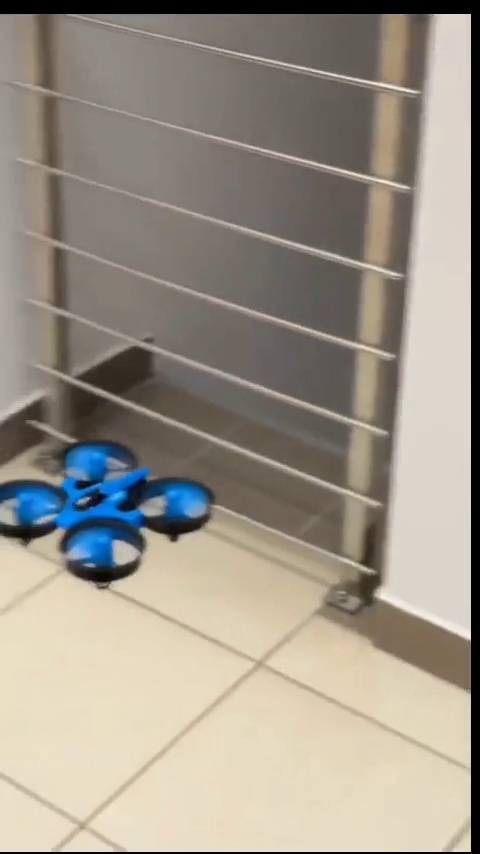drone: (0, 443, 210, 574)
